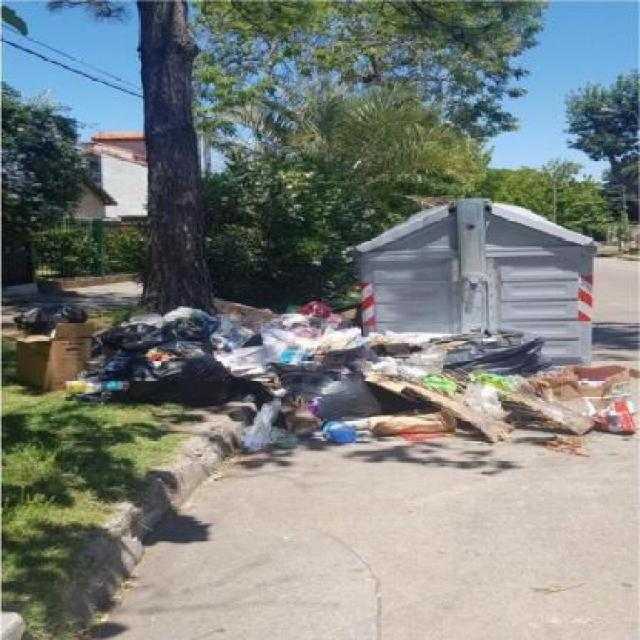garbage: (11, 290, 638, 459)
